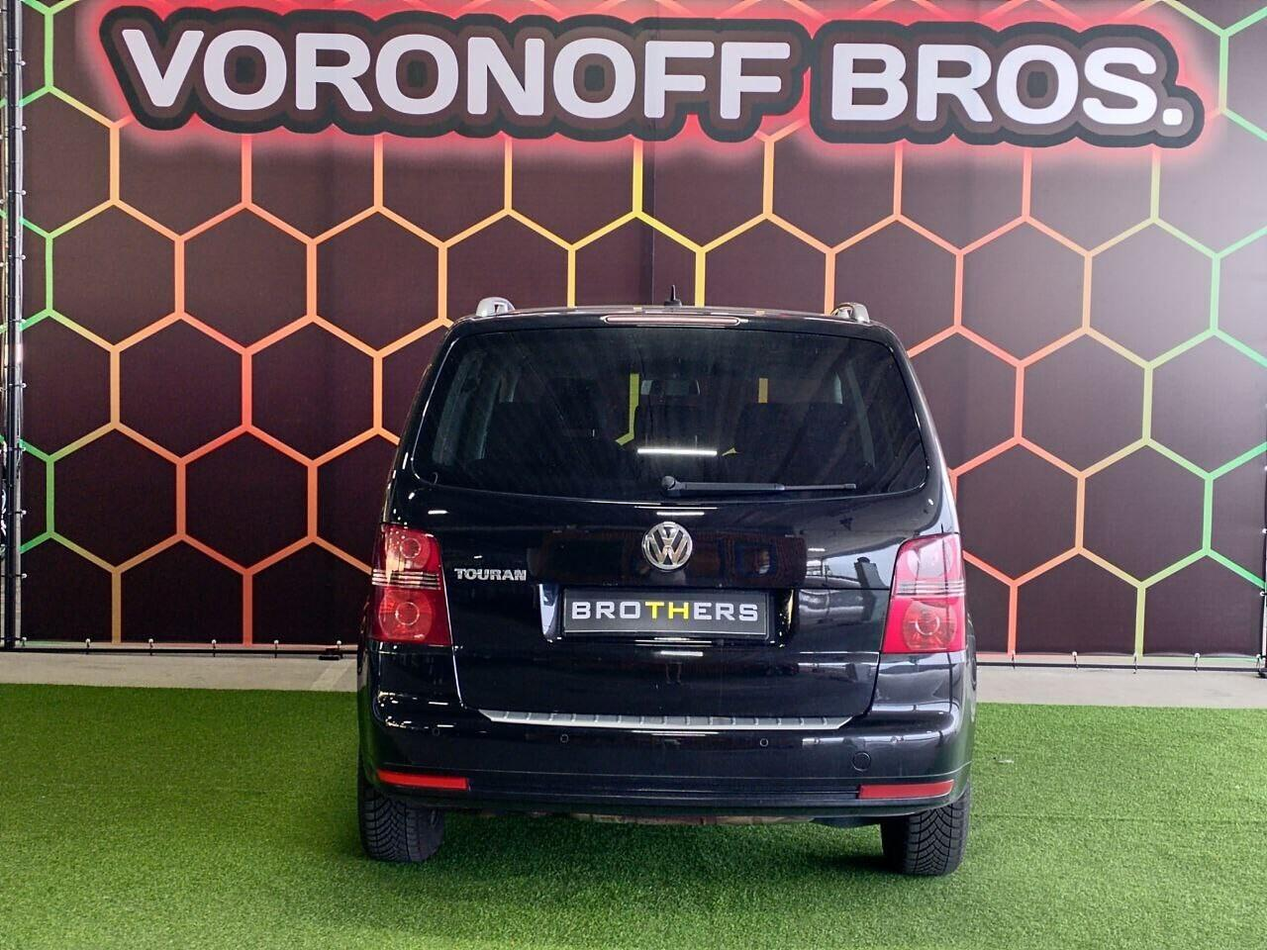Touran_2006-2010: (356, 301, 977, 877)
